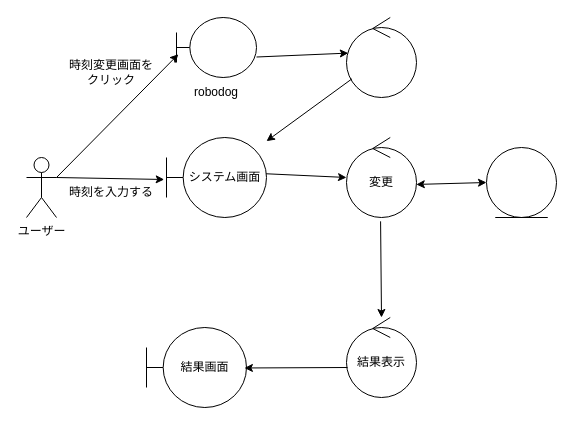
The diagram is 574 pixels wide and 425 high, and some of its shapes have lost their labels. The shapes that lost their labels are listed below. From the top down, each one's centre as x and y in pixels, then its label:
pixel 381 57: 表示
pixel 521 182: オブジェクト
